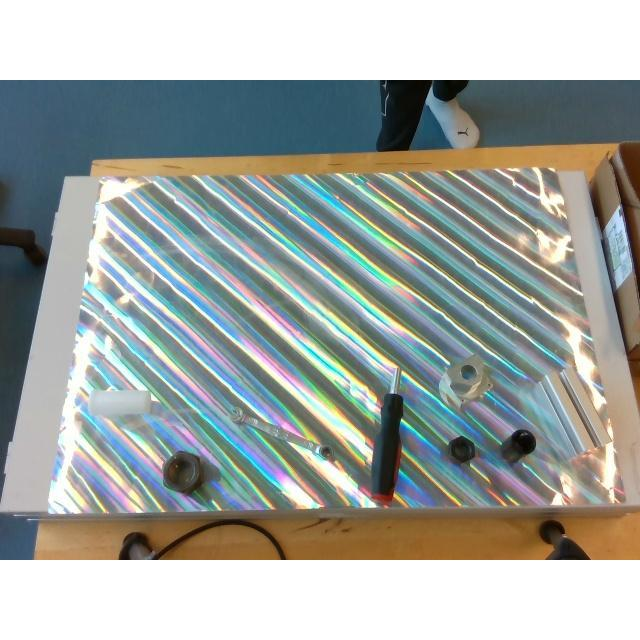M20: (447, 436, 477, 464)
M30: (163, 451, 204, 494)
S40_40_G: (536, 366, 612, 458)
Spacer: (88, 390, 152, 418)
Wrench: (227, 406, 333, 458)
